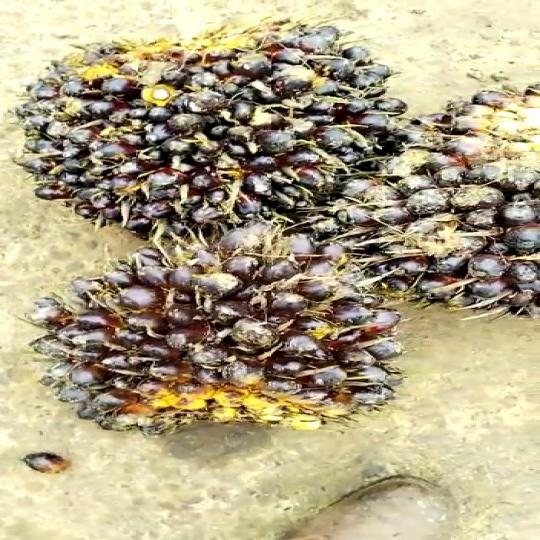mentah: (26, 12, 385, 242), (35, 233, 412, 448), (315, 83, 540, 323)
